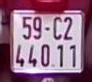0: (38, 42, 51, 69)
1: (67, 43, 80, 72), (54, 42, 66, 70)
2: (63, 14, 72, 42)
4: (26, 41, 38, 69), (15, 43, 26, 69)
5: (21, 15, 32, 41)
9: (31, 15, 44, 41)
C: (51, 16, 63, 39)
